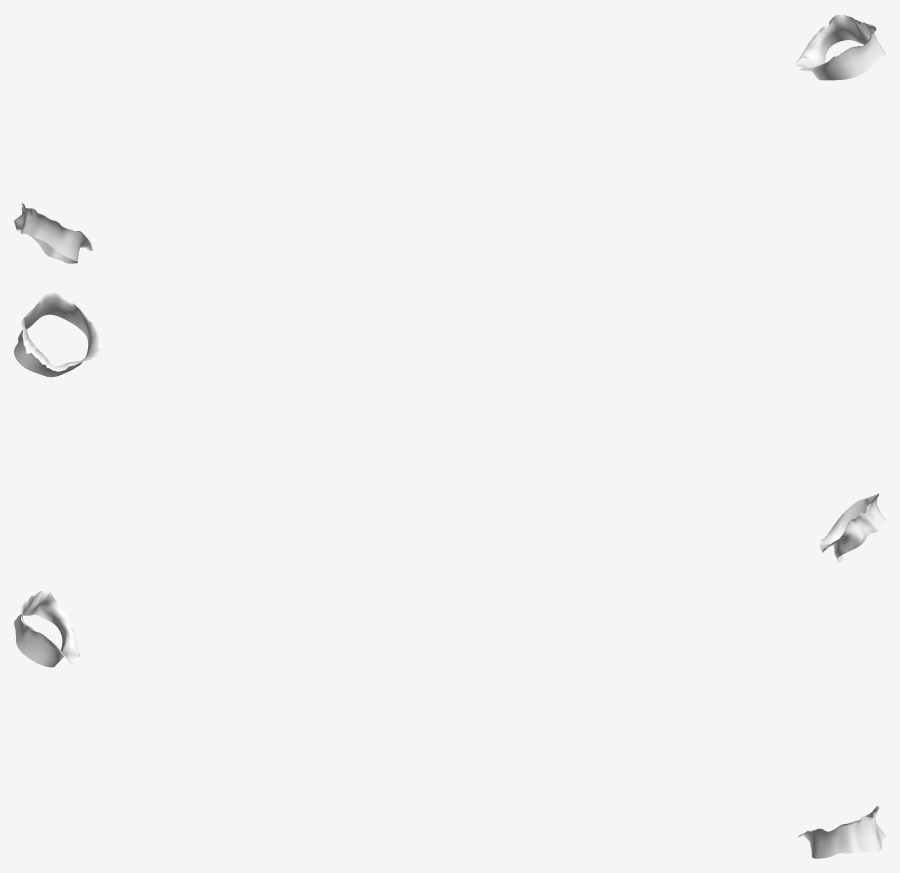
File: Jac_Rukav_V1.glb
The picture shows the model from 3 angles, top to bottom: view 1: azimuth 30°, elevation 25°; view 2: azimuth 150°, elevation 25°; view 3: azimuth 330°, elevation 25°; orthographic projection.
Visible parts, largest first — view 1: Jac_Rukav_V1.001; view 2: Jac_Rukav_V1.001; view 3: Jac_Rukav_V1.001.
Part boxes in pixels (left/top/right/bottom): Jac_Rukav_V1.001: left=14, top=14, right=885, bottom=263; Jac_Rukav_V1.001: left=14, top=292, right=885, bottom=562; Jac_Rukav_V1.001: left=14, top=591, right=885, bottom=858.
Bounding box in the file's own units: 1.53 × 0.1095 × 0.148.
Materials: 1 (1 with a texture image).
